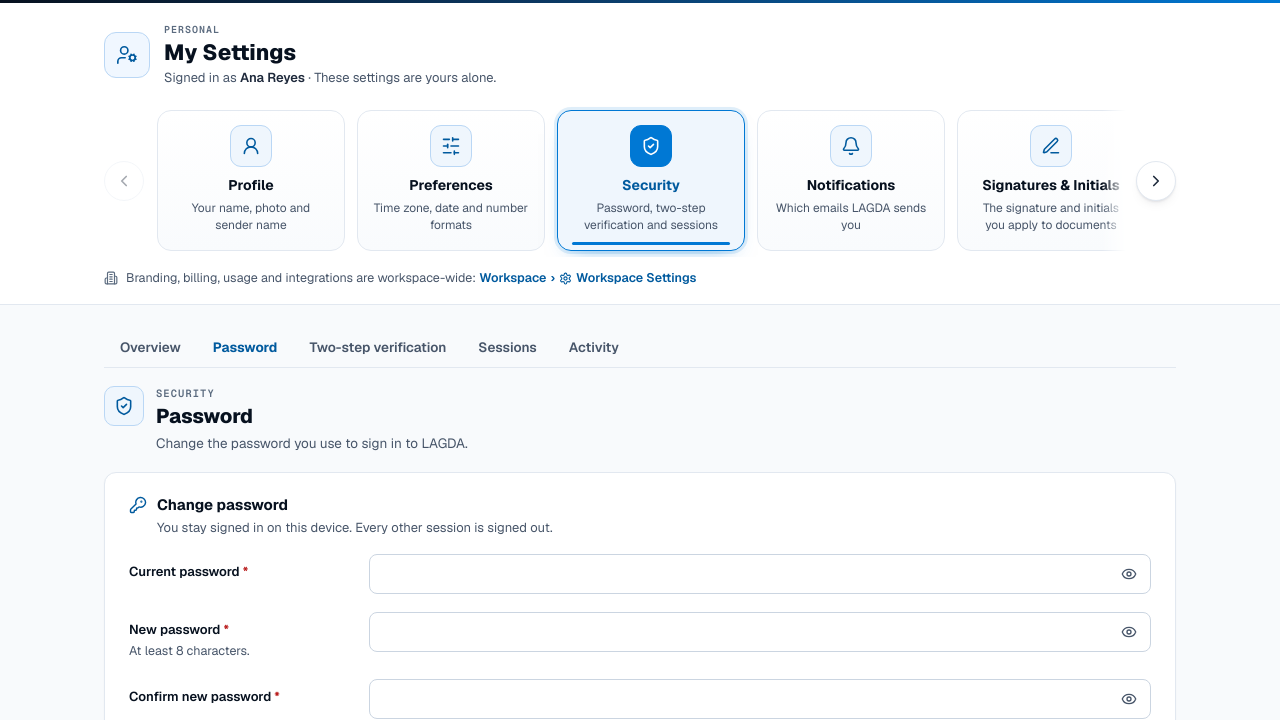
it: password › shows a wrong current password against that field
Type "wrong-password" into the password field labelled "Current password*".
click(760, 574); type("wrong-password")  # box [369,554,1151,594]
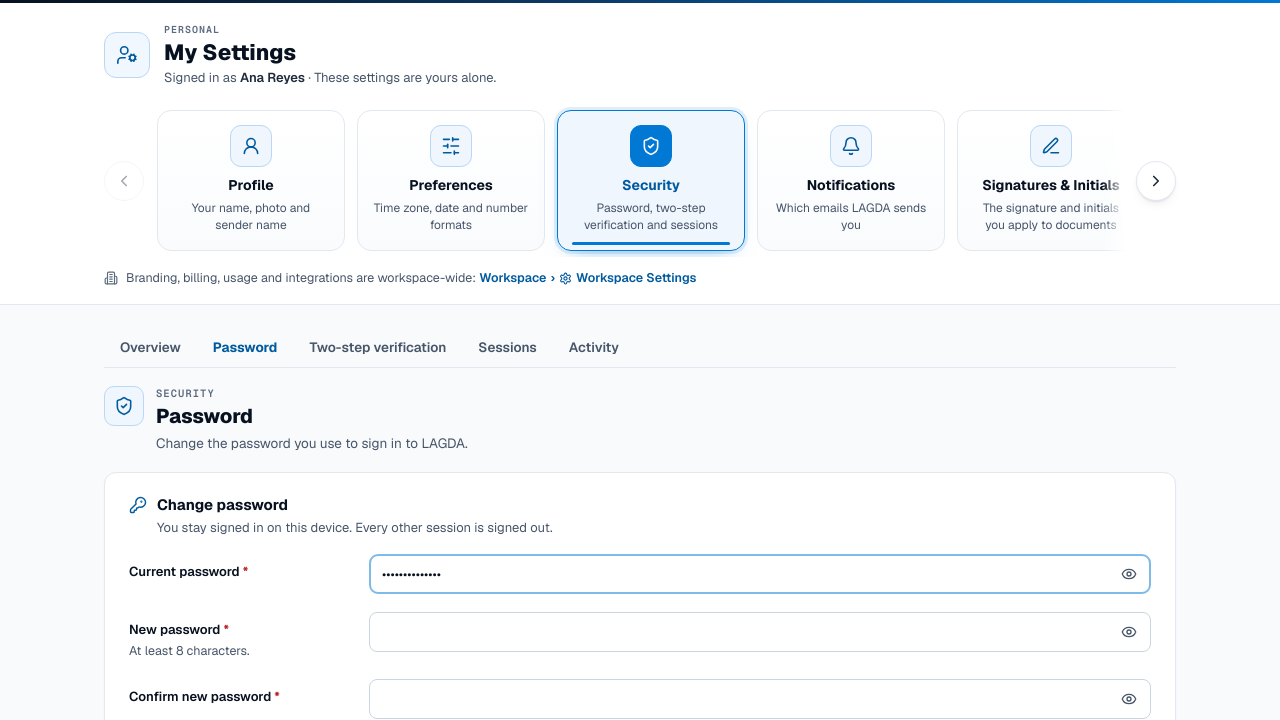
Type "BrandNew#2026" into the password field labelled "New password*".
click(760, 632); type("BrandNew#2026")  # box [369,612,1151,652]
(page scrolled)
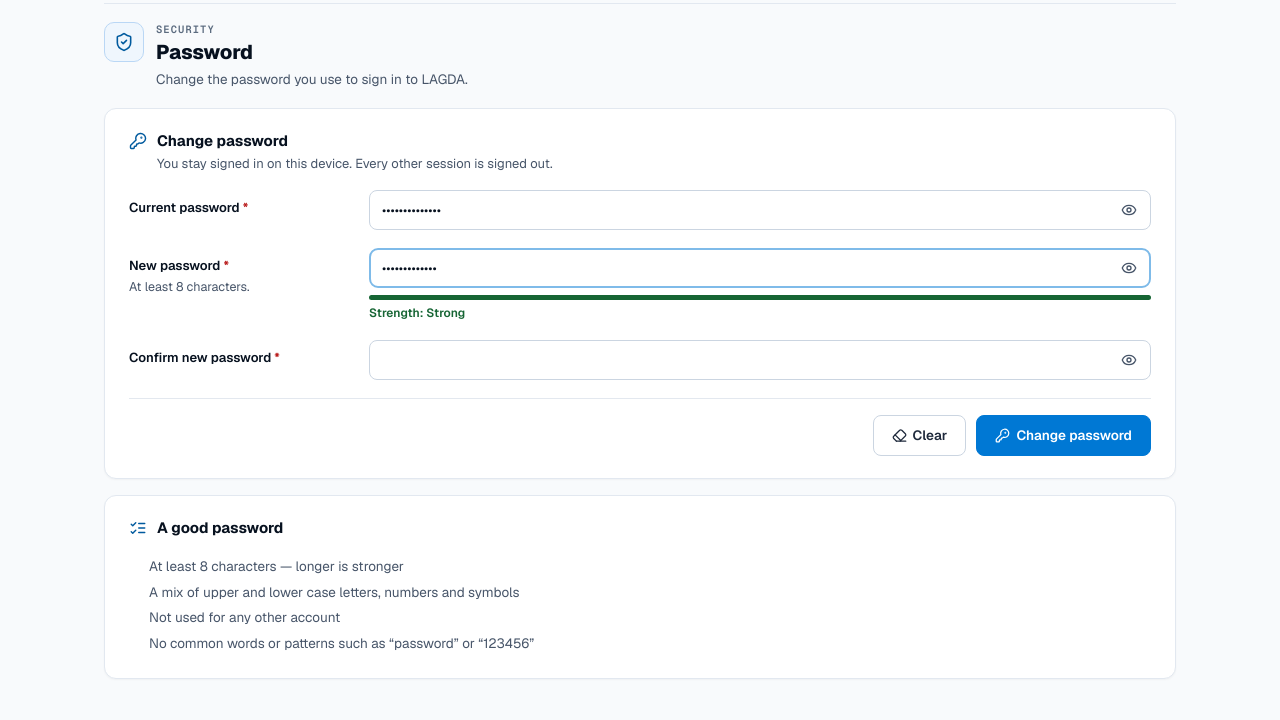
Type "BrandNew#2026" into the password field labelled "Confirm new password*".
click(760, 360); type("BrandNew#2026")  # box [369,340,1151,380]
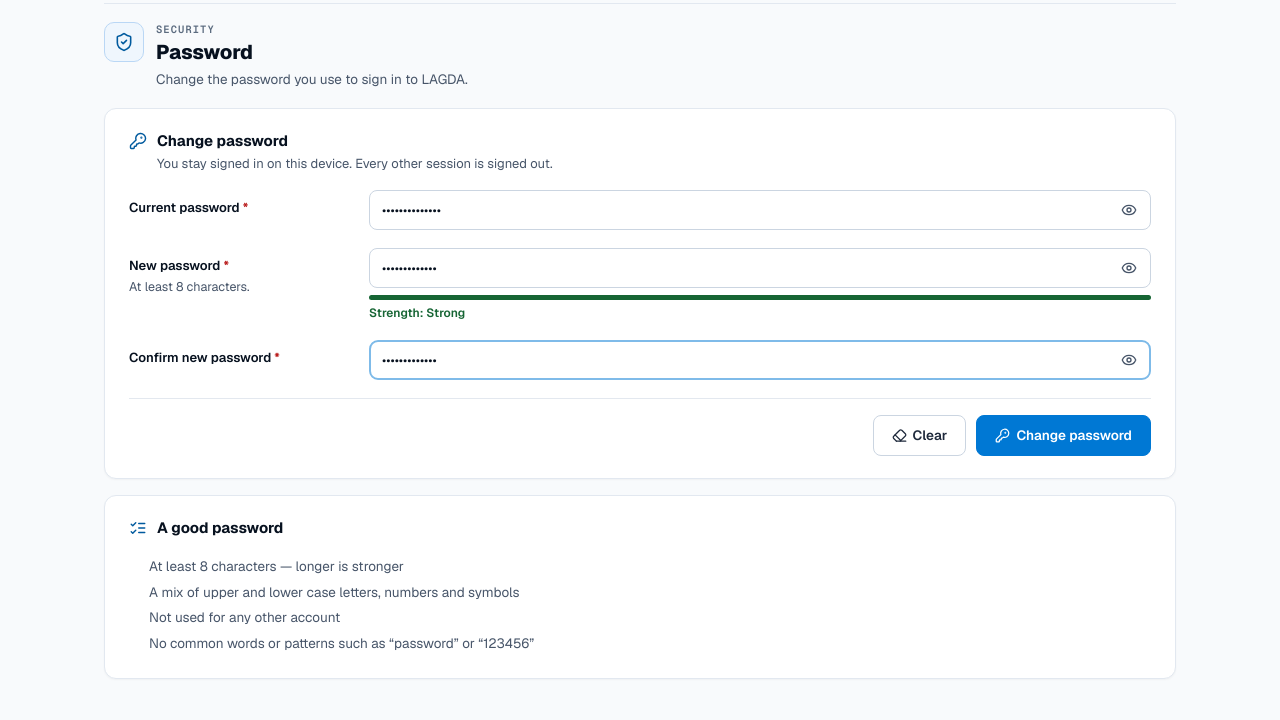
Click the button "Change password".
click(1064, 436)  # box [976,415,1151,456]
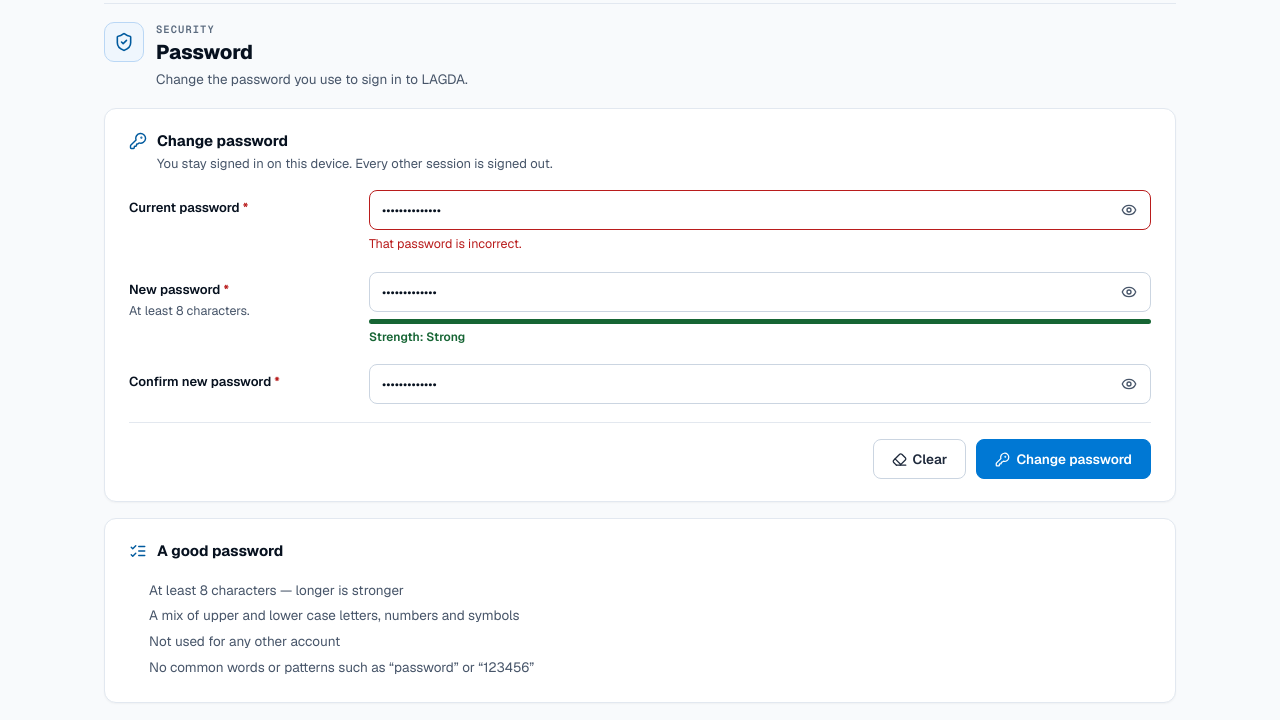
Result: the text "That password is incorrect." is shown at [369,235,522,252]
